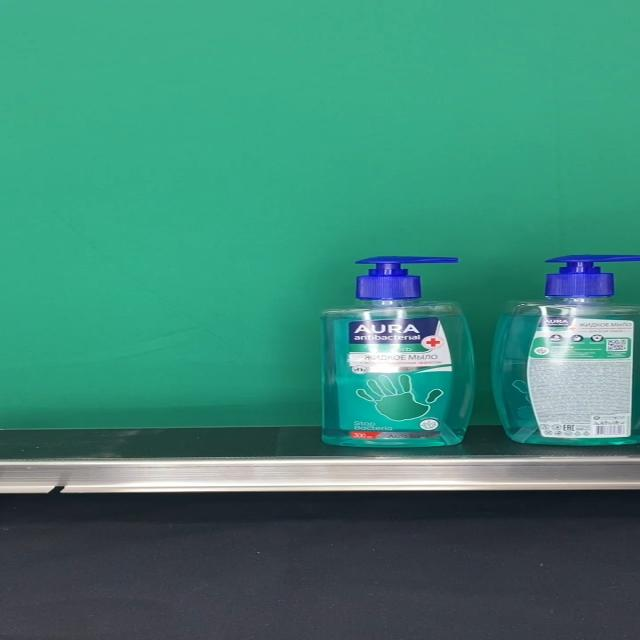Bottle: (320, 255, 476, 448), (491, 255, 640, 445)
Cap: (354, 256, 459, 300), (543, 255, 640, 297)
